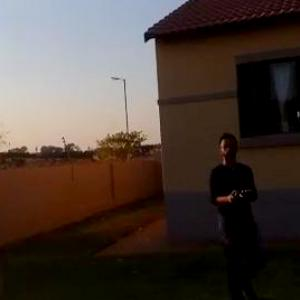follow: (202, 123, 280, 299)
